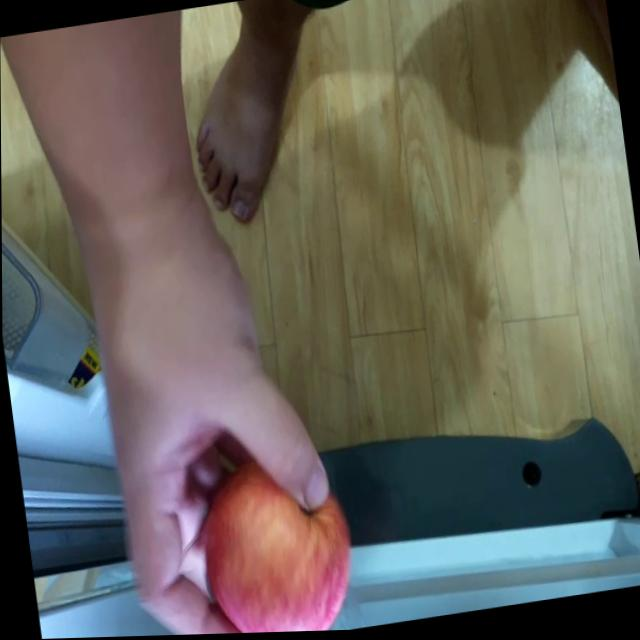apple: (195, 447, 362, 636)
